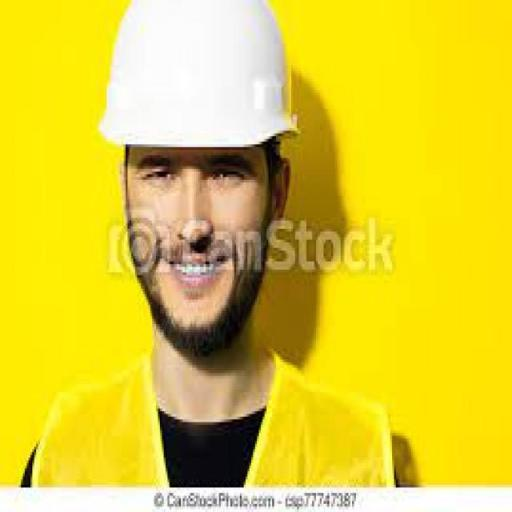helmet: (101, 0, 302, 158)
vest: (2, 346, 420, 488)
